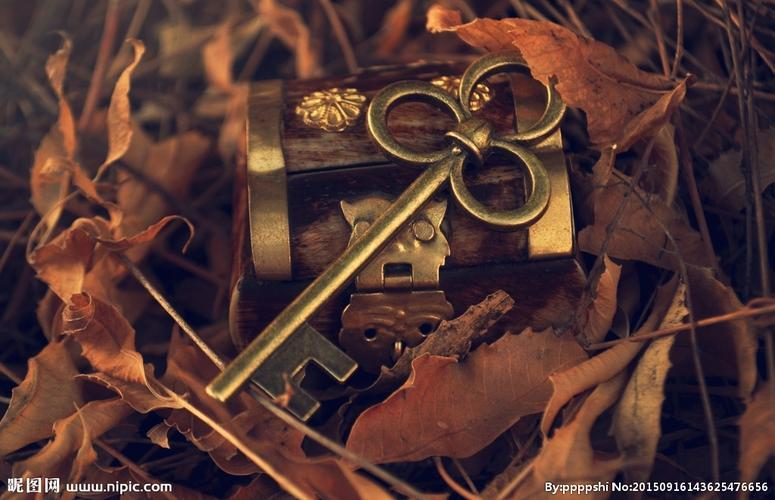key: (187, 37, 591, 412)
